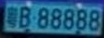B: (20, 7, 30, 27)
